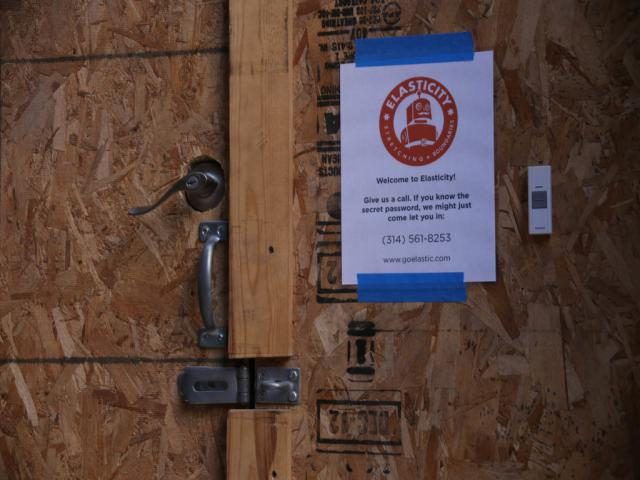Door-handle: (127, 161, 227, 215), (197, 221, 230, 349)
